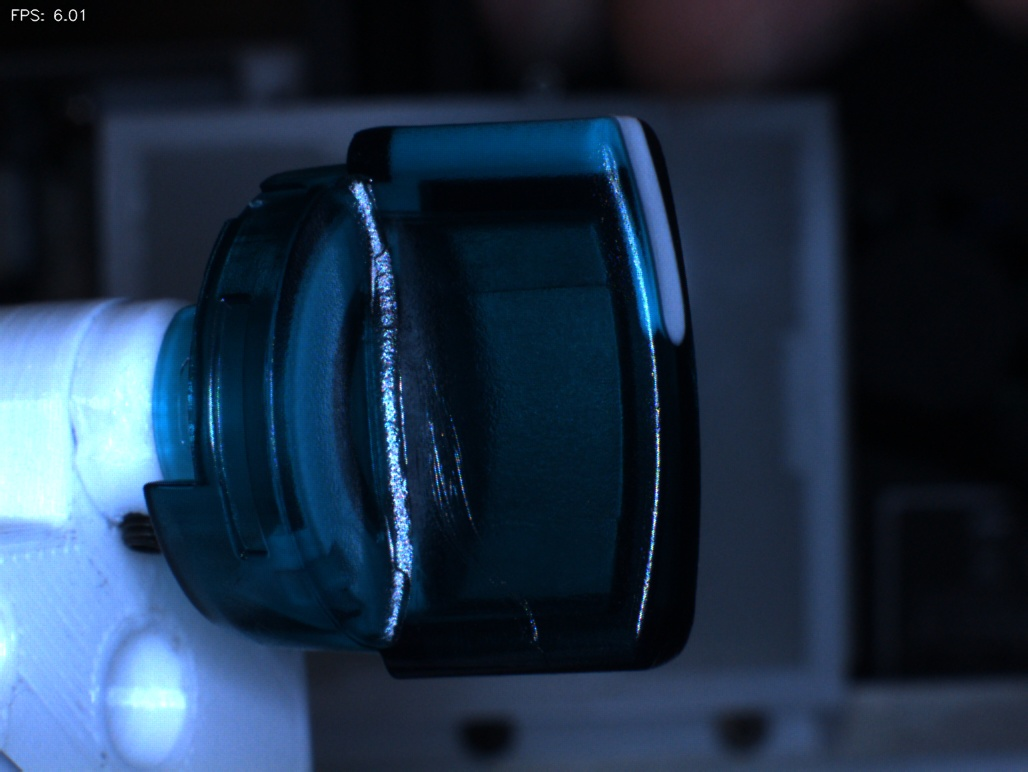Givrage: (410, 334, 495, 544), (472, 566, 563, 650)
